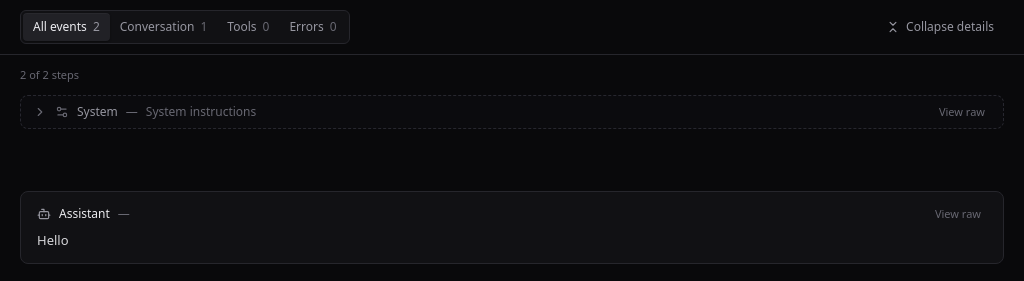
Test case: timeline navigation › switches views and provides an empty-state way back
The image size is (1024, 281).
Click the button "Conversation 1": (164, 27) [110,13,217,41]
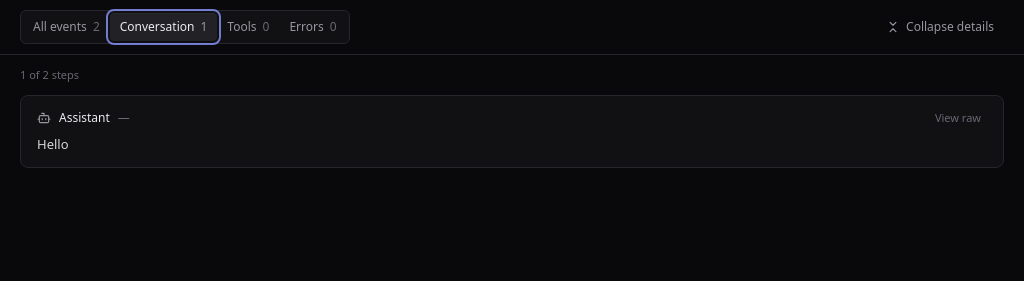
Check: the text "Hello" is shown, box [37,135,68,153]
Click the button "Errors 0": (313, 27) [279,13,347,41]
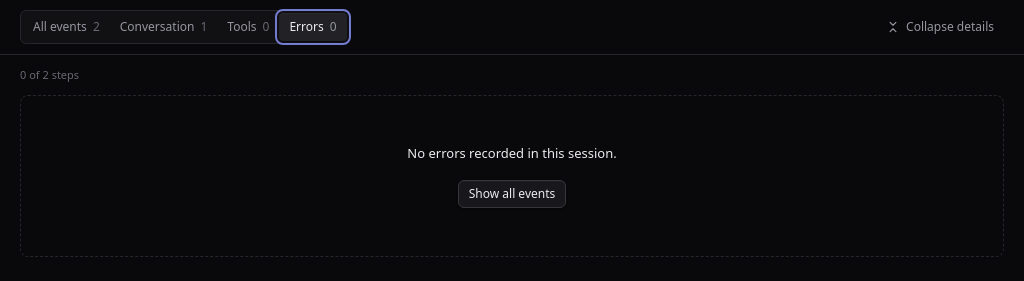
Check: the text "No errors recorded in this session." is shown, box [407,144,617,164]
Click the button "Show all events": (512, 194) [458,180,566,208]
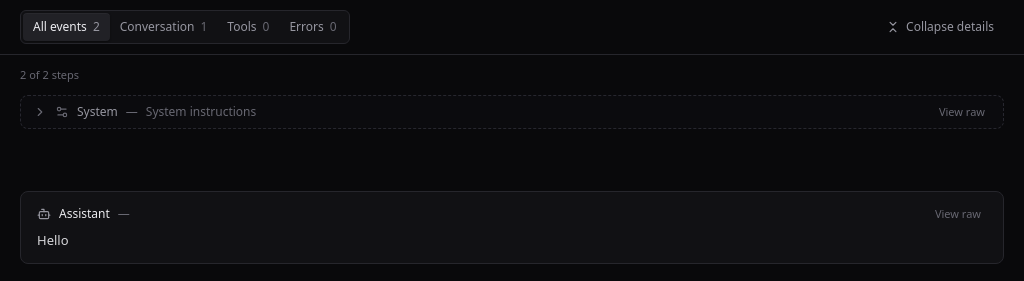
Check: the button with aria-label "Expand system message" is shown, box [33,102,925,122]
